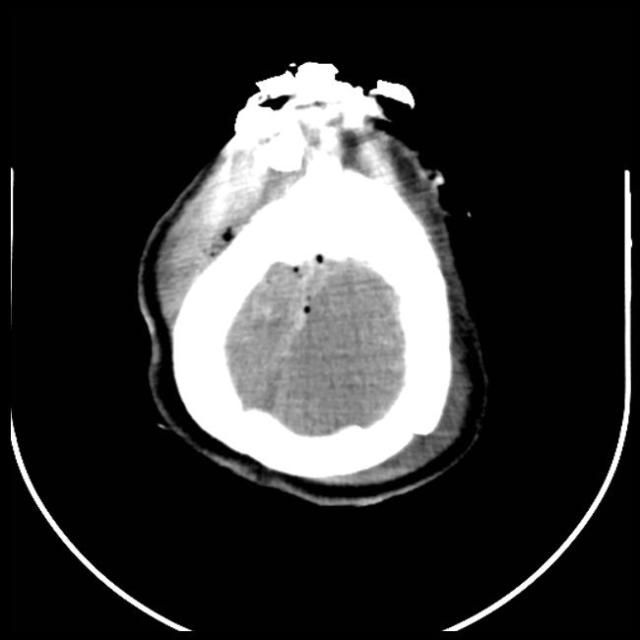lesion: (132, 57, 493, 509)
